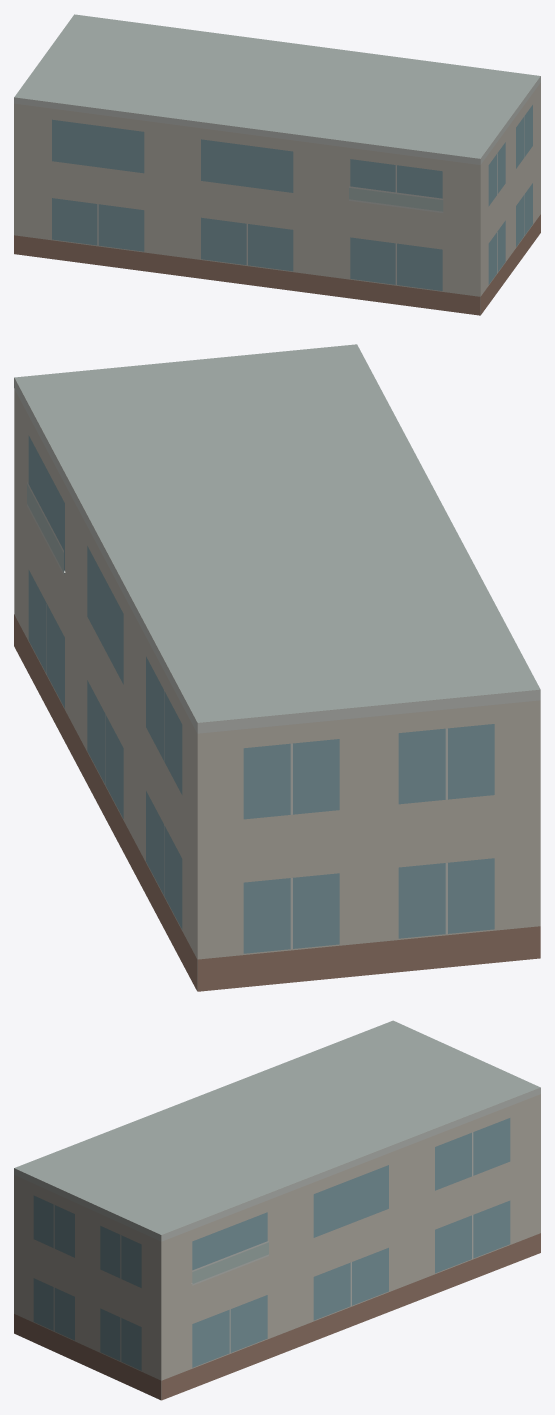
The model's file is survey-upis-32981834.glb.
The picture shows the model from 3 angles, top to bottom: view 1: azimuth 30°, elevation 25°; view 2: azimuth 150°, elevation 25°; view 3: azimuth 270°, elevation 25°; orthographic projection. The views are drawn at different scales.
Visible parts, largest first — view 1: survey-upis-32981834.tmp; view 2: survey-upis-32981834.tmp; view 3: survey-upis-32981834.tmp.
Boxes of the visible parts, x1,y1,x2,y2 form: survey-upis-32981834.tmp: (14, 14, 540, 315); survey-upis-32981834.tmp: (14, 344, 540, 991); survey-upis-32981834.tmp: (14, 1020, 540, 1400).
Size of the model in its own units: 16.99 by 6.1 by 17.62.
